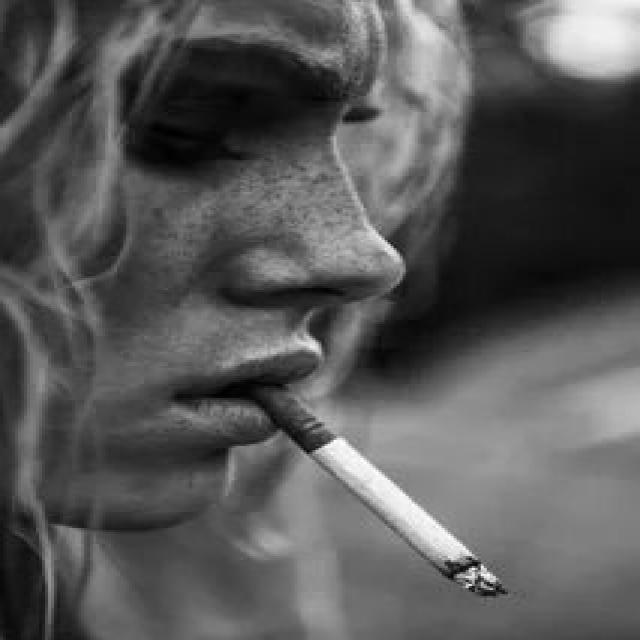cigarette: (240, 376, 517, 602)
